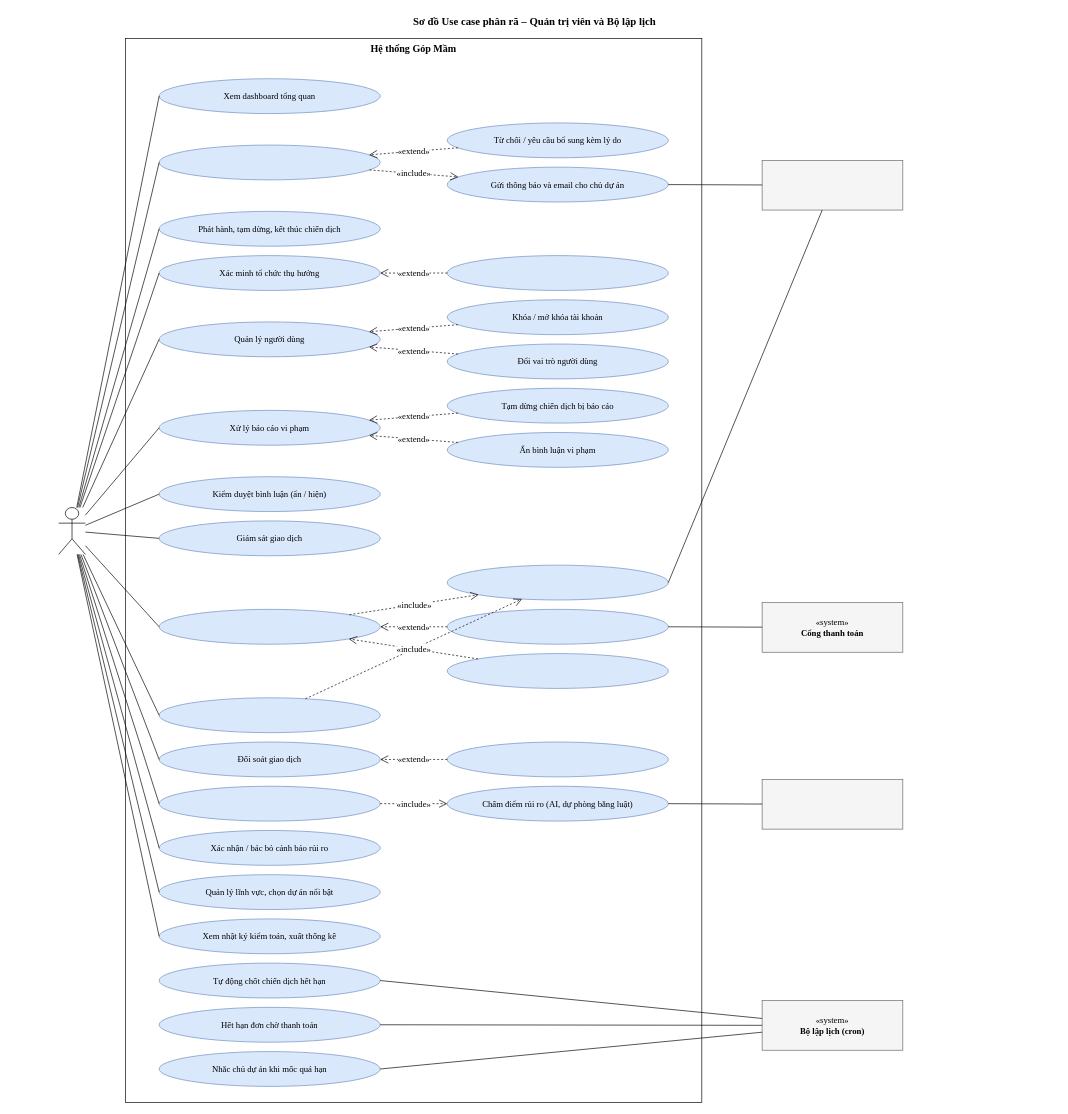
This 1068x1114 diagram has some shape labels left out. The centre of each missing label's shape, as x and y in pixels:
Hoàn thủ công qua chuyển khoản (SePay): [557,670]
Hoàn tiền qua cổng thanh toán: [557,626]
Quét cảnh báo rủi ro: [269,803]
Quản trị viên: [71,530]
Sao lưu và khôi phục dữ liệu: [269,715]
Xuất báo cáo CSV: [557,759]
Xác minh OTP qua email: [557,582]
Xét duyệt hồ sơ chiến dịch: [269,162]
Xử lý yêu cầu hoàn tiền: [269,626]
Yêu cầu bổ sung / từ chối / tạm ngưng: [557,272]
«system» Dịch vụ AI: [832,804]
«system» Dịch vụ email: [832,185]
